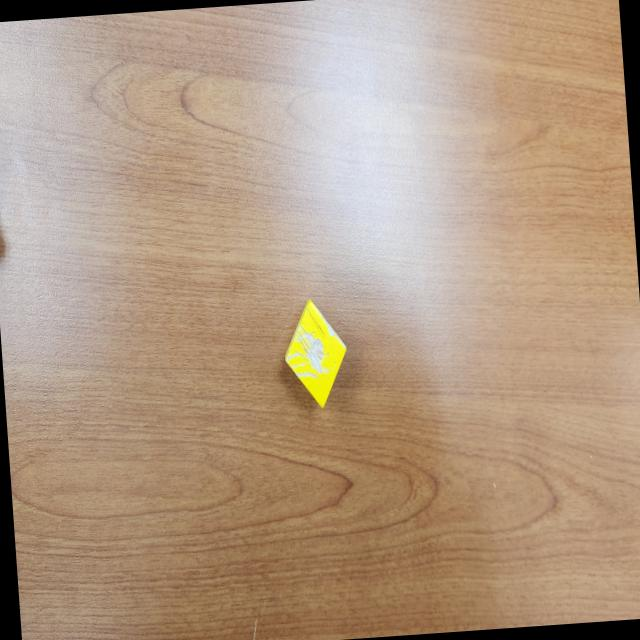broken: (281, 296, 351, 412)
